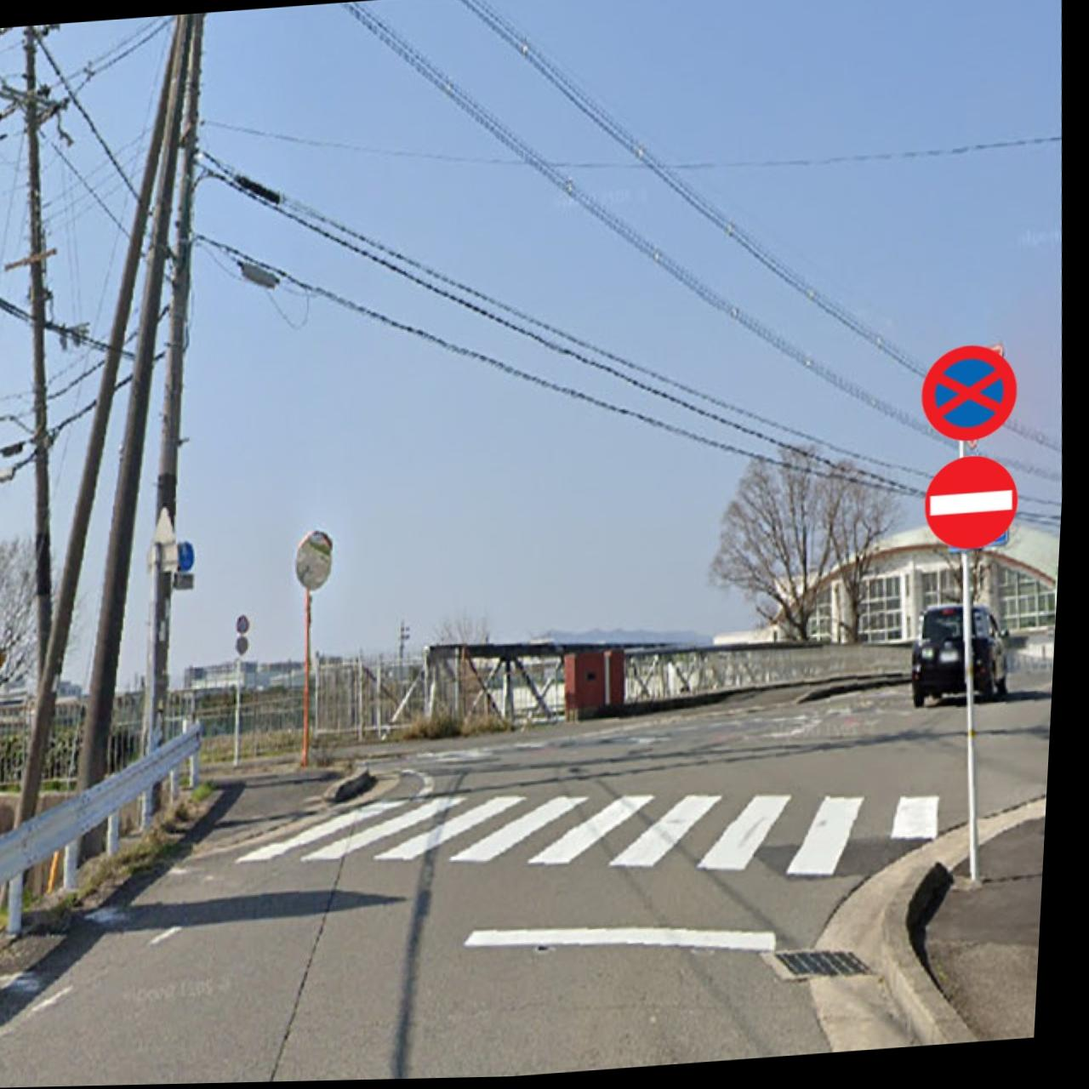barrier: (915, 451, 1021, 550)
stop_sign: (918, 339, 1020, 441)
